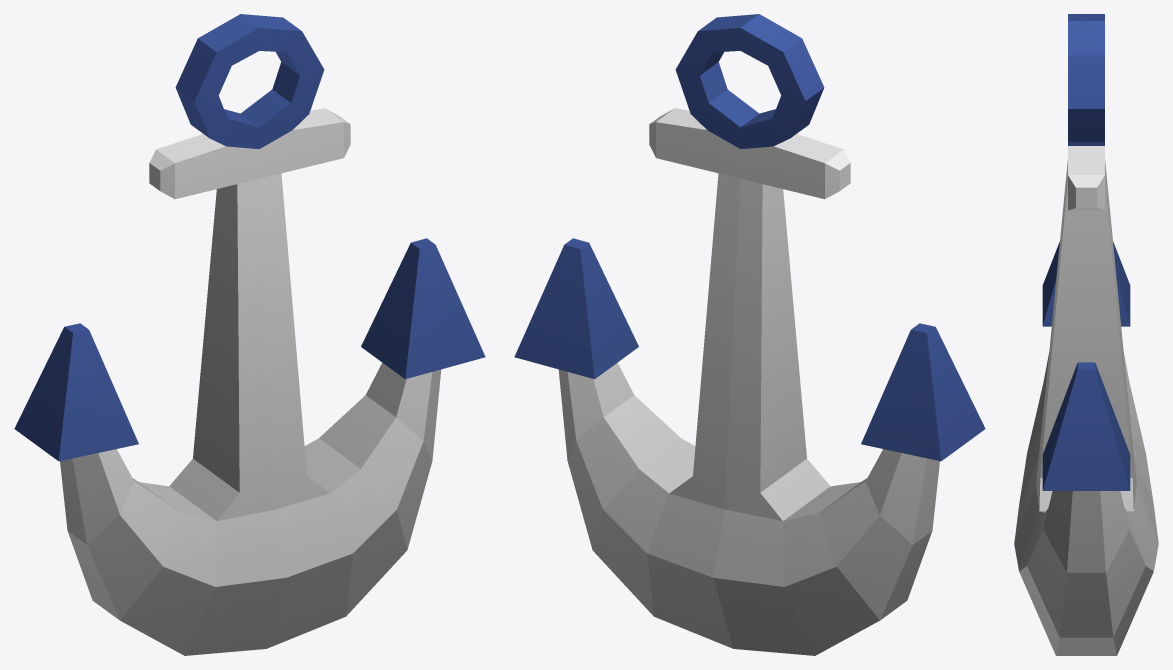
File: Anchor_B.fbx
3 renders of one model, left to right at view 1: azimuth 30°, elevation 25°; view 2: azimuth 150°, elevation 25°; view 3: azimuth 270°, elevation 25°, orthographic.
Parts seen in each view (by area): view 1: Anchor_B; view 2: Anchor_B; view 3: Anchor_B.
Part boxes in pixels (x1,y1,x2,y2): Anchor_B: [14, 14, 485, 655]; Anchor_B: [514, 14, 985, 655]; Anchor_B: [1014, 14, 1158, 655].
Size of the model in its own units: 176 by 243 by 52.3.
